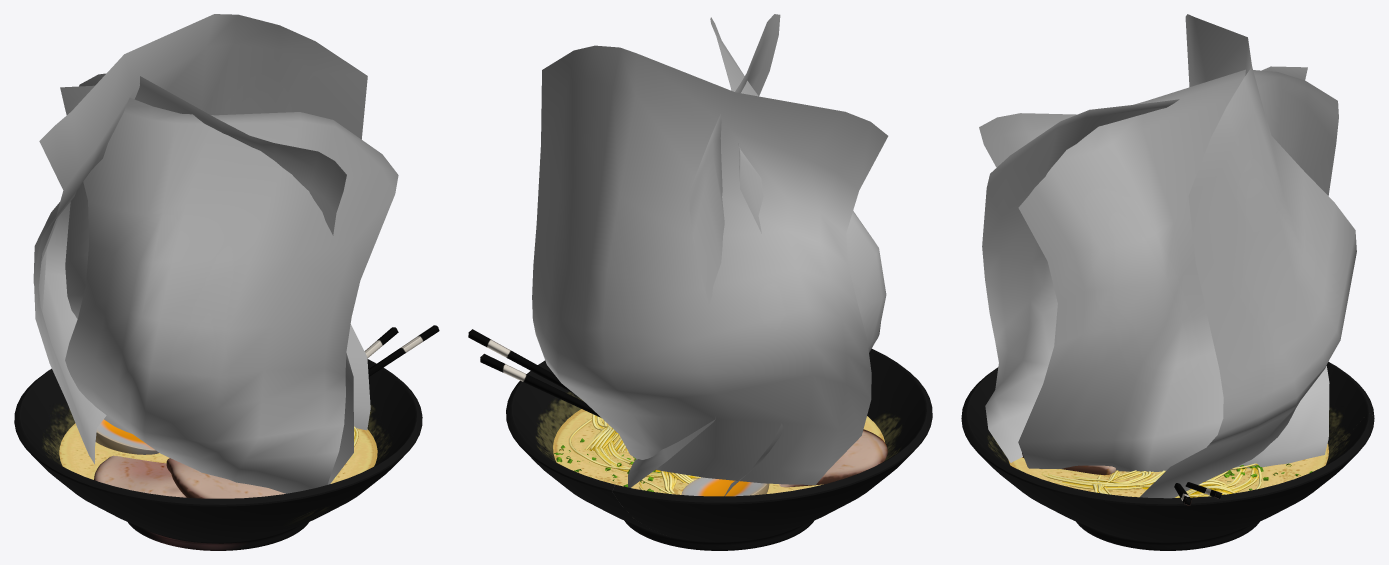
File: pork_belly_tonkotsu_ramen.glb
The picture shows the model from 3 angles, left to right: view 1: azimuth 30°, elevation 25°; view 2: azimuth 150°, elevation 25°; view 3: azimuth 270°, elevation 25°; orthographic projection. The views are drawn at different scales.
Visible parts, largest first — view 1: pPlane3, pPlane2, Noodles_Lo1, pPlane1, polySurface13; view 2: pPlane2, Noodles_Lo1, pPlane1, pPlane3, Sushi:Mesh, polySurface13; view 3: pPlane1, pPlane2, Noodles_Lo1, pPlane3.
Boxes of the visible parts, bbox=[...] form: pPlane3: bbox=[60, 85, 398, 493]; pPlane2: bbox=[33, 14, 370, 464]; Noodles_Lo1: bbox=[14, 359, 422, 550]; pPlane1: bbox=[65, 73, 353, 484]; polySurface13: bbox=[368, 325, 439, 376]; pPlane2: bbox=[532, 45, 888, 484]; Noodles_Lo1: bbox=[506, 349, 932, 550]; pPlane1: bbox=[628, 14, 780, 487]; pPlane3: bbox=[710, 17, 886, 496]; Sushi:Mesh: bbox=[480, 353, 600, 417]; polySurface13: bbox=[468, 329, 574, 393]; pPlane1: bbox=[979, 69, 1338, 471]; pPlane2: bbox=[1140, 14, 1356, 498]; Noodles_Lo1: bbox=[961, 362, 1374, 550]; pPlane3: bbox=[982, 66, 1307, 462].
Size of the model in its own units: 12.91 by 13.9 by 11.22.
Materials: 4 (4 with a texture image).
